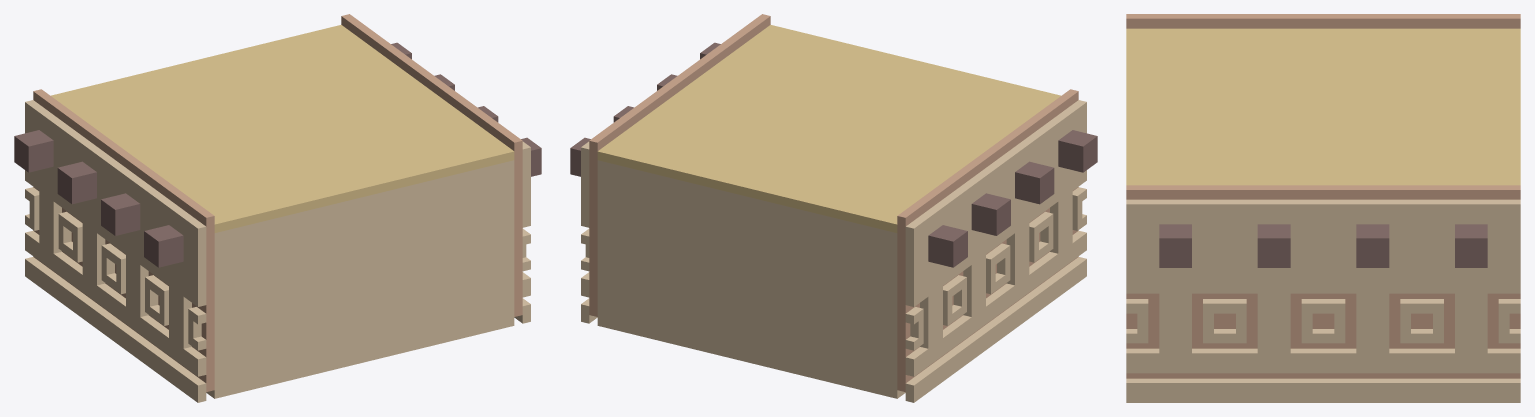
Rendered from BS_Block_Base_TwoSides.fbx.
3 renders of one model, left to right at view 1: azimuth 30°, elevation 25°; view 2: azimuth 150°, elevation 25°; view 3: azimuth 270°, elevation 25°, orthographic. The views are drawn at different scales.
Parts seen in each view (by area): view 1: BS_Block_Base_TwoSides; view 2: BS_Block_Base_TwoSides; view 3: BS_Block_Base_TwoSides.
Boxes of the visible parts, x1=… form: BS_Block_Base_TwoSides: x1=14, y1=14, x2=541, y2=402; BS_Block_Base_TwoSides: x1=570, y1=14, x2=1097, y2=402; BS_Block_Base_TwoSides: x1=1126, y1=14, x2=1520, y2=402.
Size of the model in its own units: 115 by 90 by 52.5.
